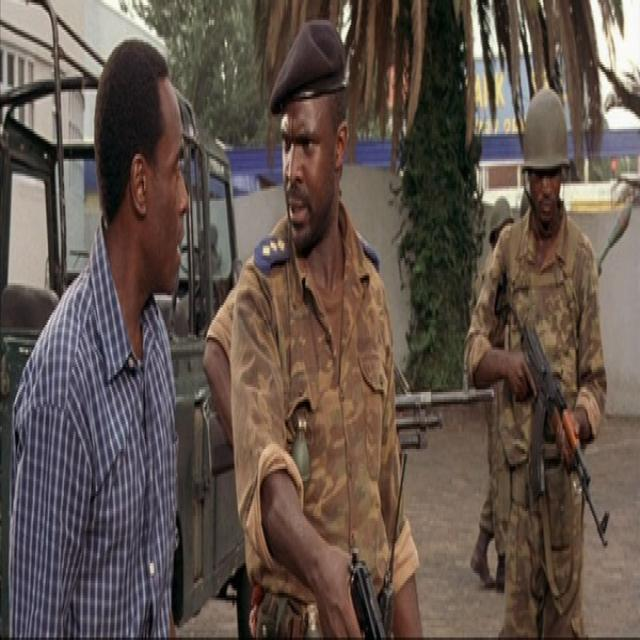rifle: (488, 280, 614, 556)
